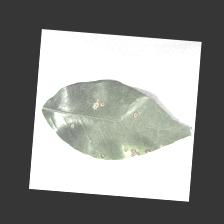canker: (82, 87, 145, 162)
